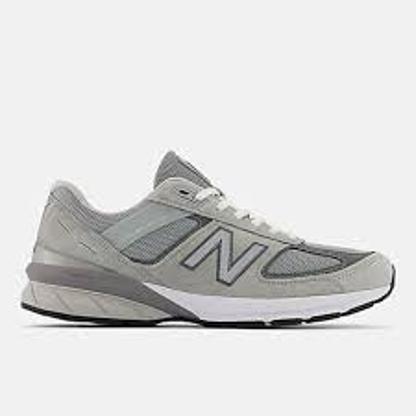not trash: (19, 148, 399, 333)
